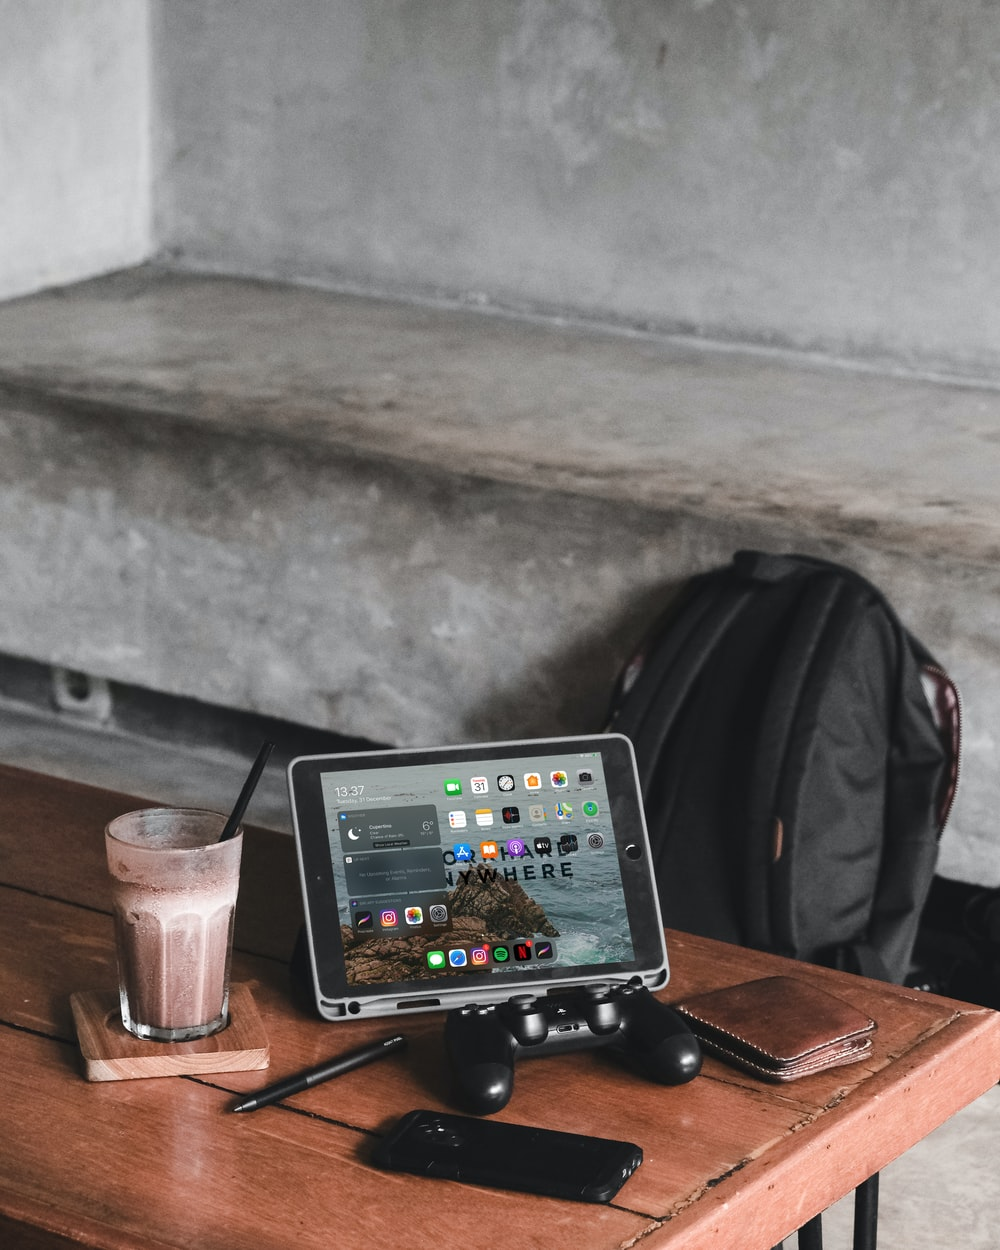Cell Phone: (279, 728, 684, 1011)
